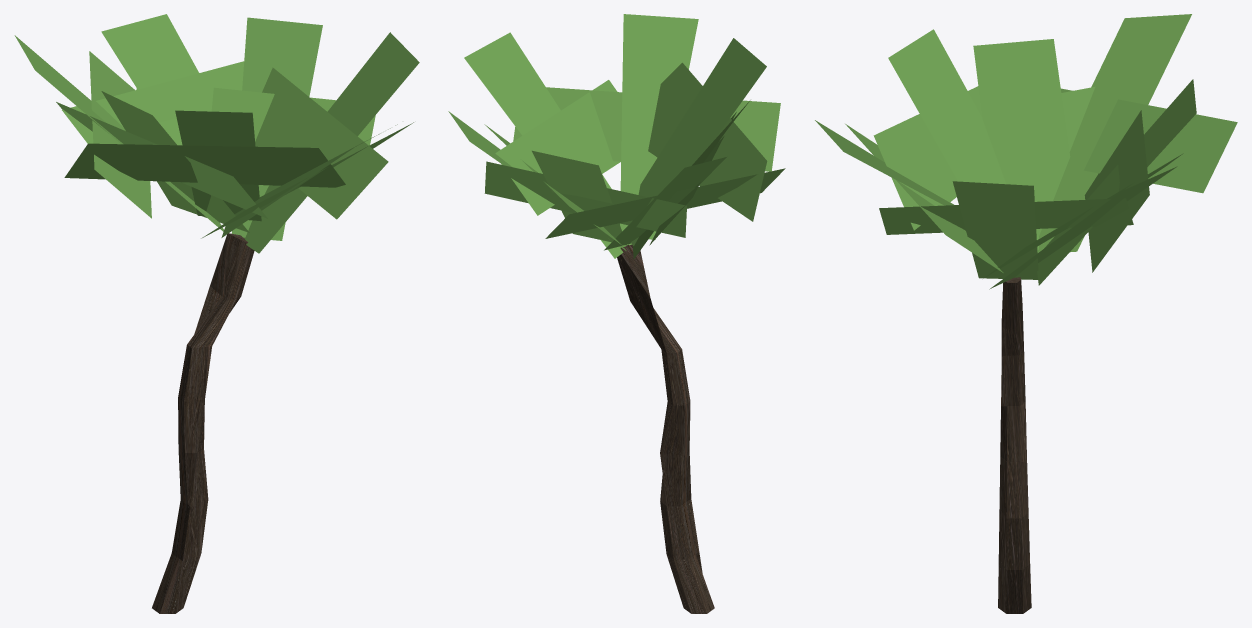
The model's file is jungle_light.glb.
The picture shows the model from 3 angles, left to right: view 1: azimuth 30°, elevation 25°; view 2: azimuth 150°, elevation 25°; view 3: azimuth 270°, elevation 25°; orthographic projection. The views are drawn at different scales.
Visible parts, largest first — view 1: jungle_light; view 2: jungle_light; view 3: jungle_light.
Part boxes in pixels (box(x1,y1,x2,y2)): jungle_light: box(14, 14, 419, 613); jungle_light: box(448, 14, 785, 613); jungle_light: box(815, 14, 1237, 613).
Size of the model in its own units: 2.55 by 4.16 by 2.84.
2 materials, 1 textured.
